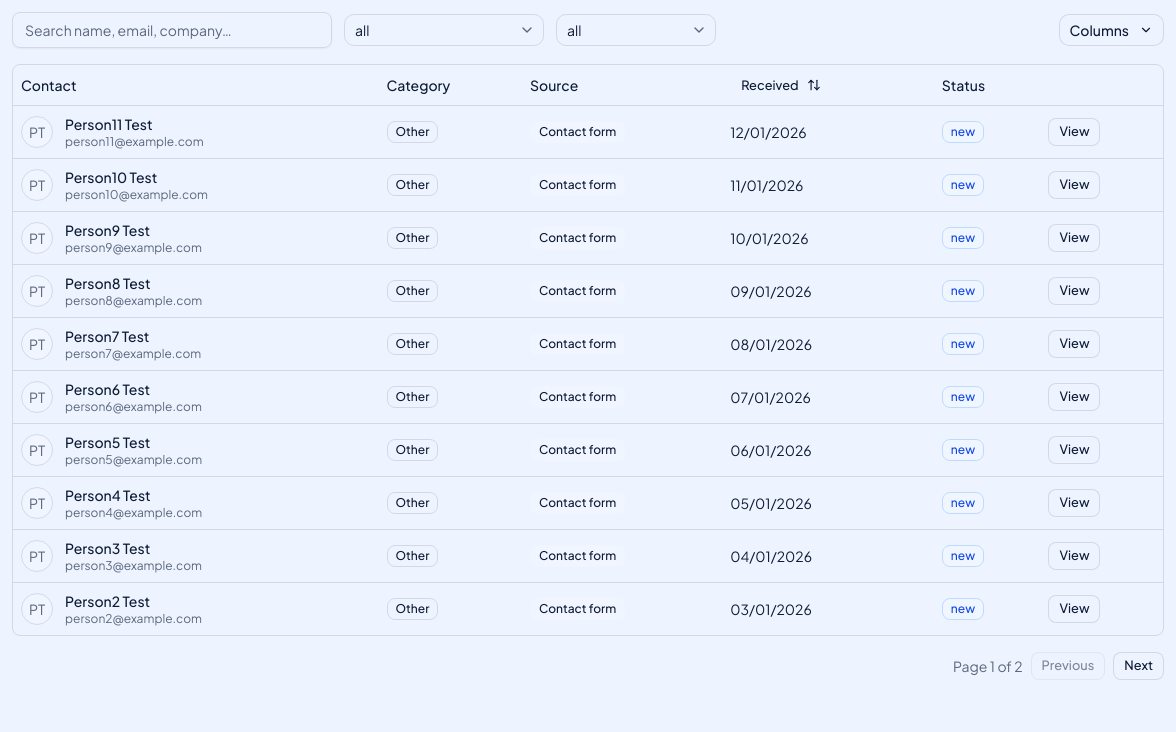
EnquiriesDataTable › paginates to the next page and back when there are more than 10 enquiries
Check: the text "Page 1 of 2" is shown, box [953,656,1023,676]
Click the button "Next" at (1139, 666), box [1113,652,1164,680]
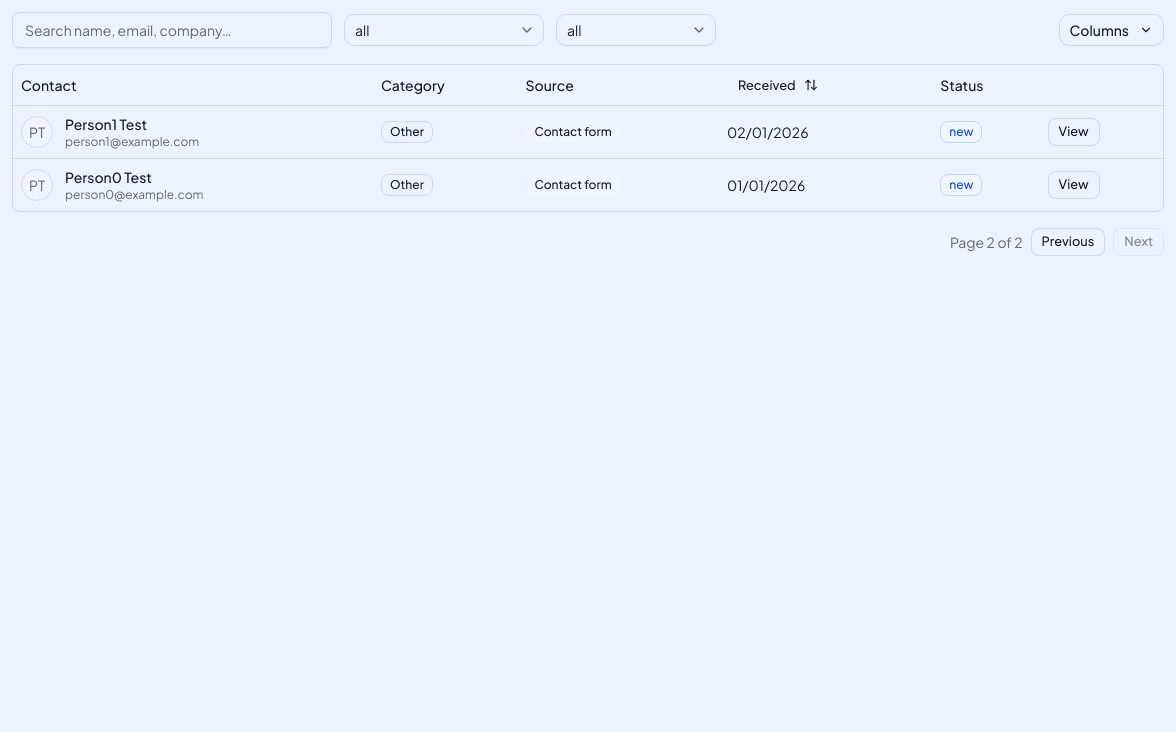
Check: the text "Page 2 of 2" is shown, box [950,232,1023,252]
Check: the button "Next" is disabled, box [1113,228,1164,256]
Click the button "Previous" at (1068, 242), box [1031,228,1105,256]
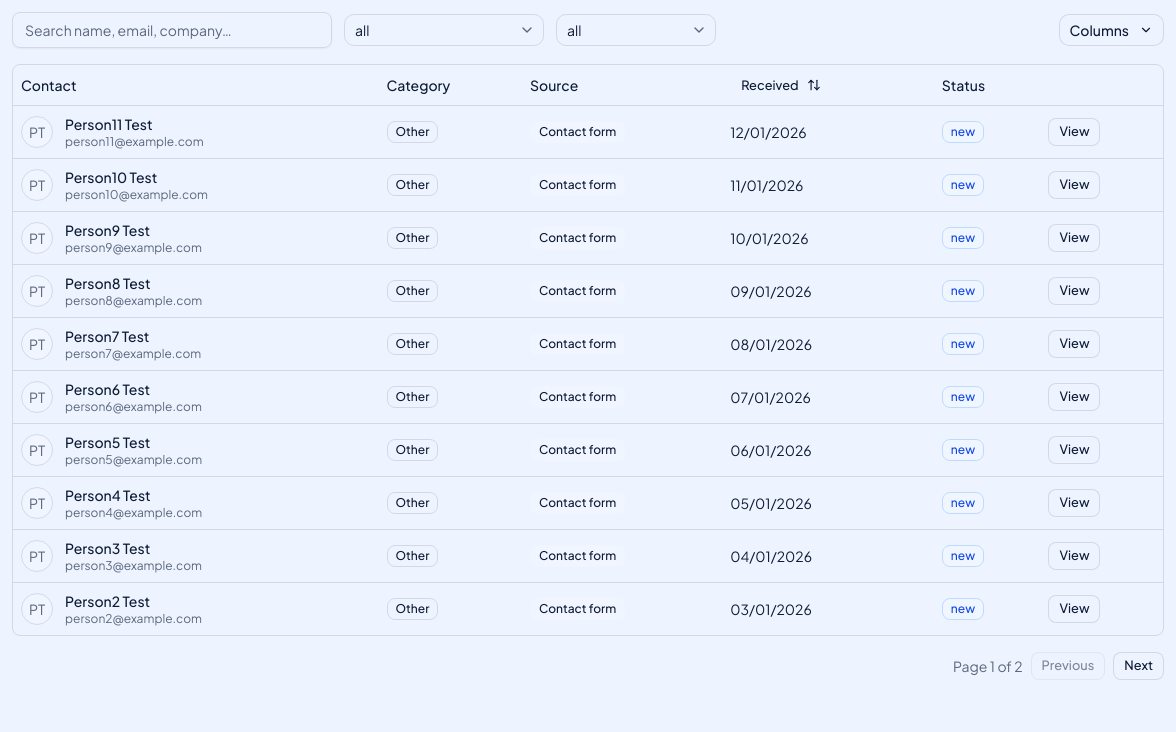
Check: the text "Page 1 of 2" is shown, box [953,656,1023,676]
